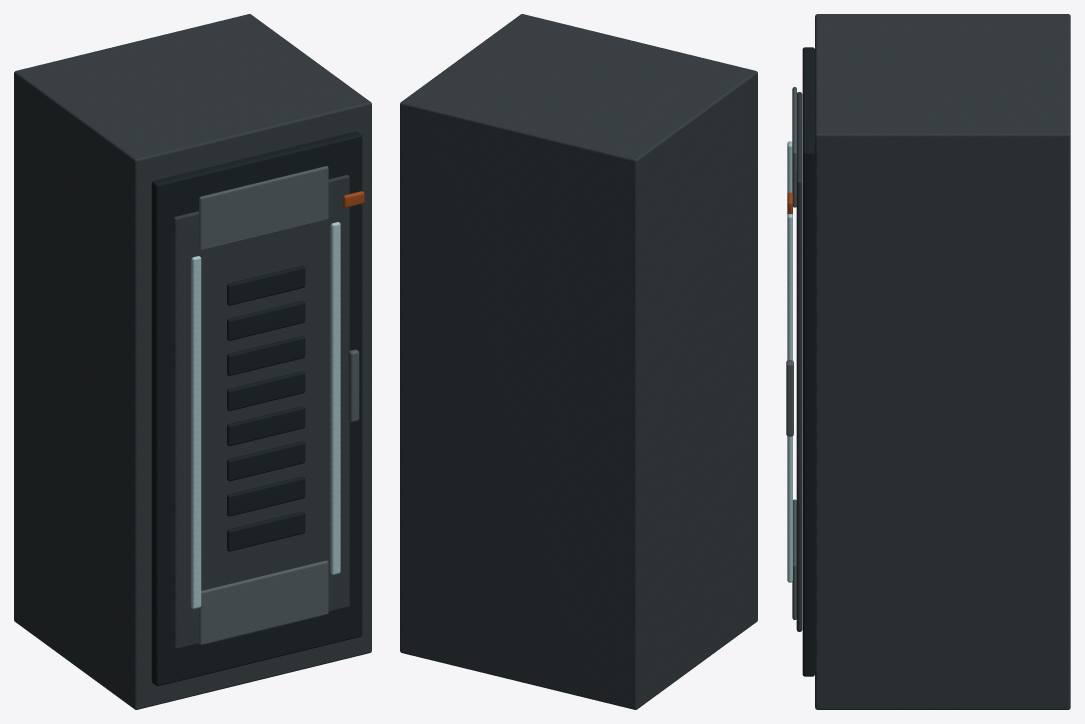
The model's file is ServerRack.fbx.
3 views of the same model, side by side, from view 1: azimuth 30°, elevation 25°; view 2: azimuth 150°, elevation 25°; view 3: azimuth 270°, elevation 25° (orthographic). The views are drawn at different scales.
Parts seen in each view (by area): view 1: ServerRack_Mesh; view 2: ServerRack_Mesh; view 3: ServerRack_Mesh.
Part boxes in pixels (x1,y1,x2,y2): ServerRack_Mesh: [14, 14, 371, 709]; ServerRack_Mesh: [400, 14, 757, 709]; ServerRack_Mesh: [786, 14, 1070, 709].
Size of the model in its own units: 92 by 204 by 91.25.
Materials: 5 (5 with a texture image).
